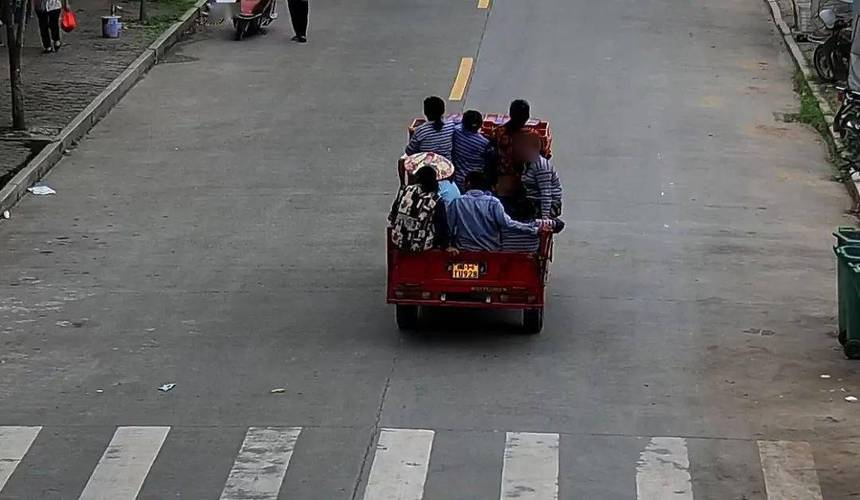overloading: (384, 88, 562, 344)
passenger: (396, 158, 462, 263), (446, 182, 533, 261), (509, 143, 566, 248), (492, 96, 548, 183), (402, 94, 454, 161), (453, 104, 488, 188)
